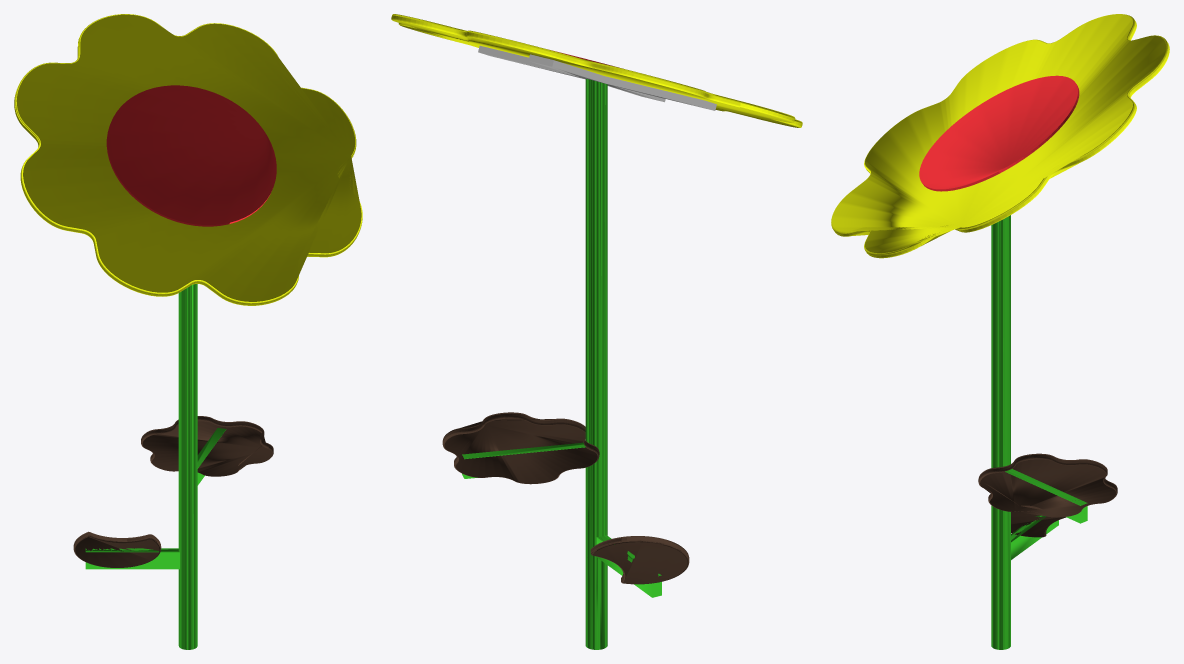
3 renders of one model, left to right at view 1: azimuth 30°, elevation 25°; view 2: azimuth 150°, elevation 25°; view 3: azimuth 270°, elevation 25°, orthographic. The views are drawn at different scales.
Parts seen in each view (by area): view 1: D_76; view 2: D_76; view 3: D_76.
Boxes of the visible parts, x1=… form: D_76: x1=14, y1=14, x2=362, y2=649; D_76: x1=391, y1=14, x2=802, y2=649; D_76: x1=831, y1=14, x2=1169, y2=649.
Bounding box in the file's own units: 119 × 202 × 103.
